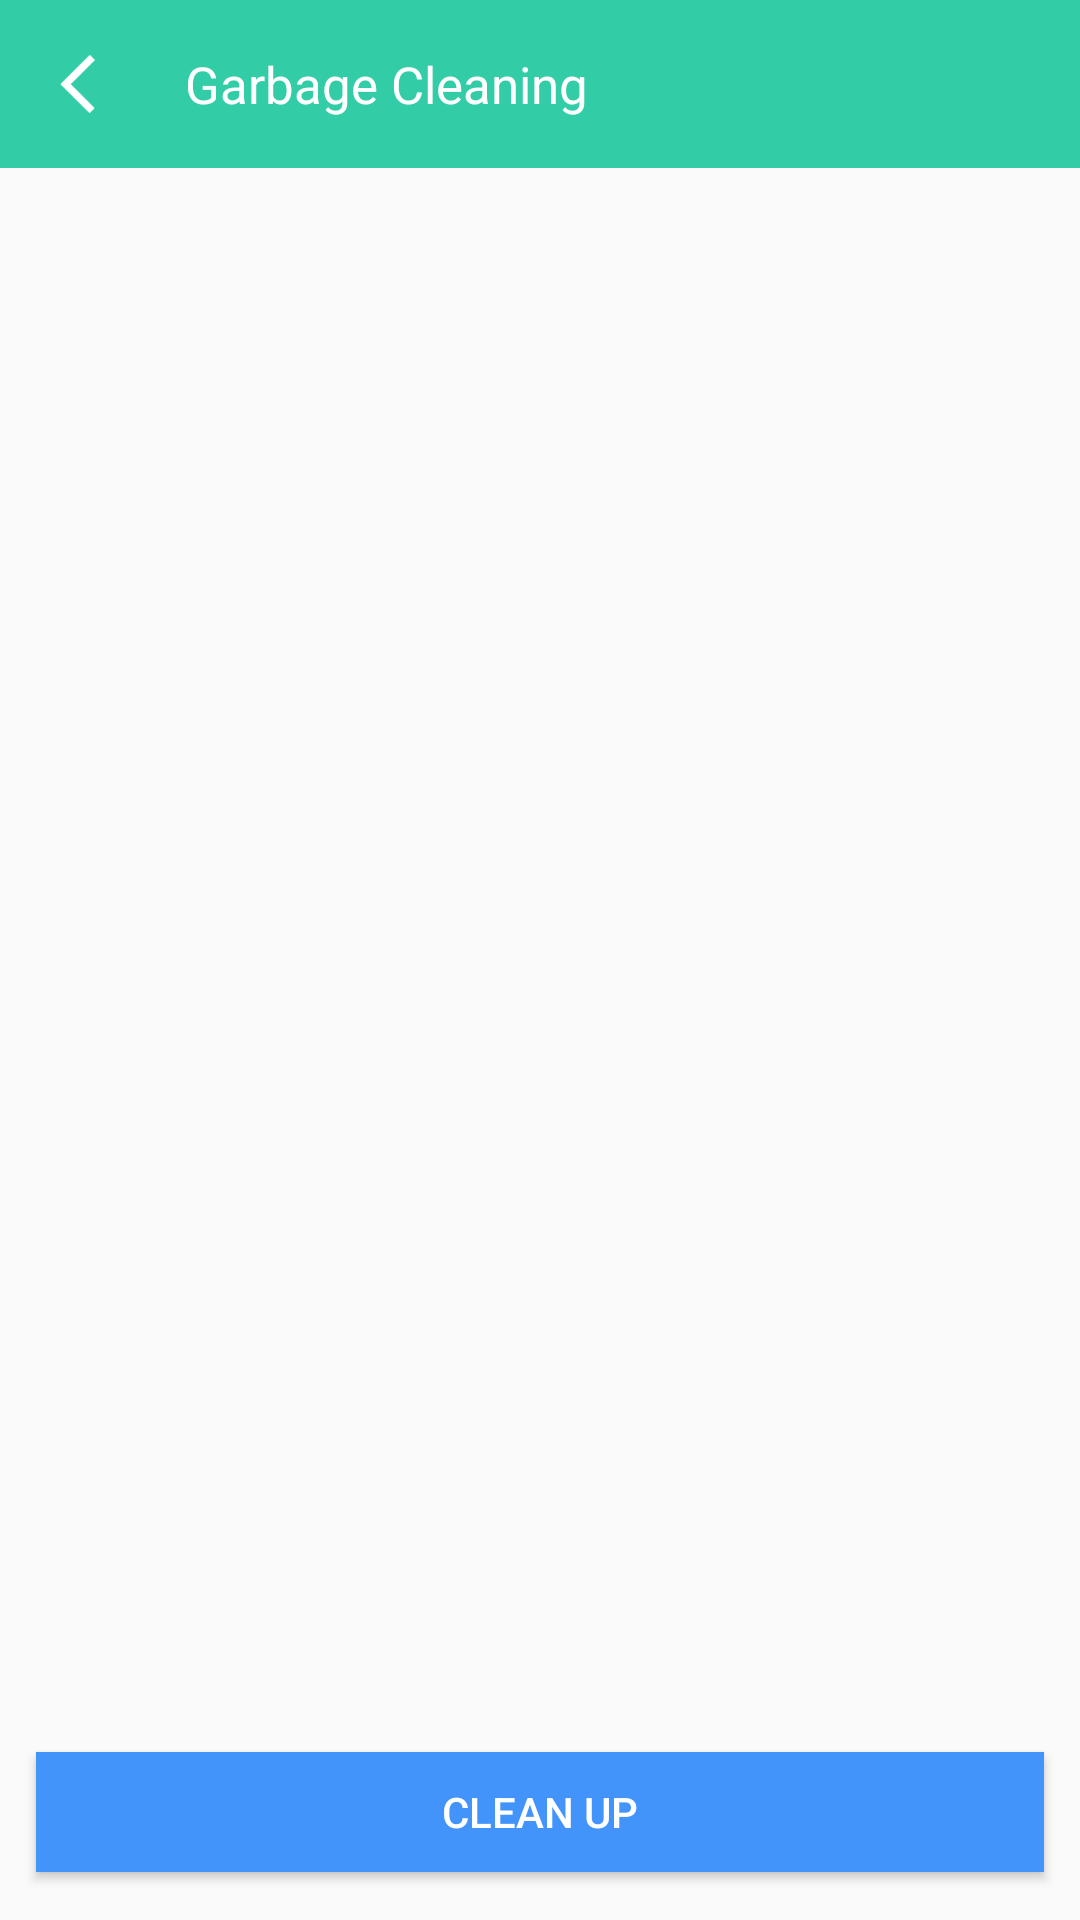

Screen size 1080x1920. Icon name, then its center in pixels as (x=x, y=y):
exit: (x=77, y=84)
